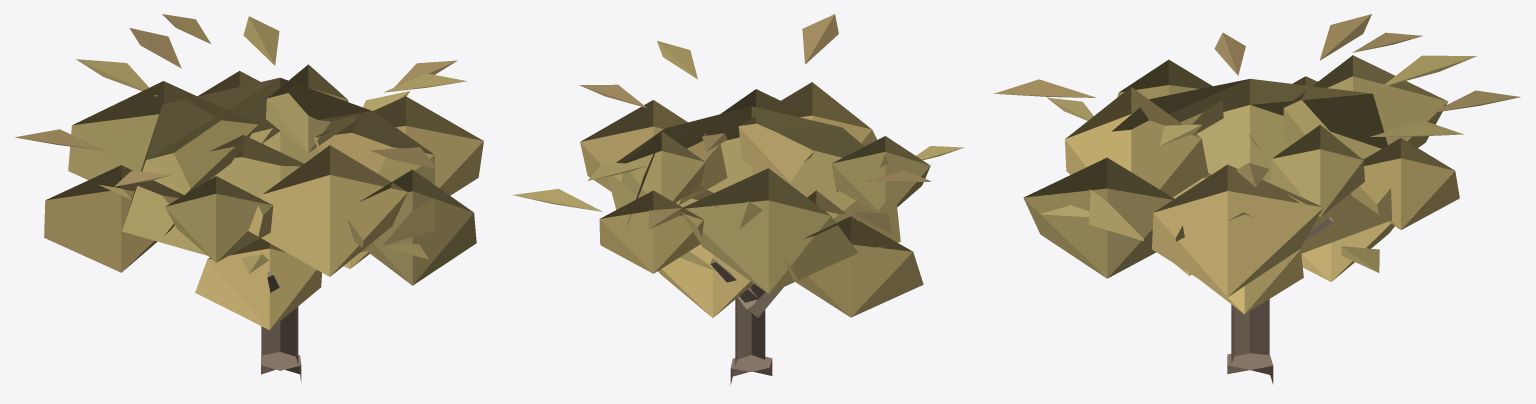
The model's file is nong.sang@subadult__autumn.glb.
3 views of the same model, side by side, from view 1: azimuth 30°, elevation 25°; view 2: azimuth 150°, elevation 25°; view 3: azimuth 270°, elevation 25° (orthographic). The views are drawn at different scales.
Parts seen in each view (by area): view 1: nong.sang@subadult__autumn; view 2: nong.sang@subadult__autumn; view 3: nong.sang@subadult__autumn.
Part boxes in pixels (x1,y1,x2,y2): nong.sang@subadult__autumn: (15, 14, 483, 382); nong.sang@subadult__autumn: (513, 14, 963, 384); nong.sang@subadult__autumn: (994, 14, 1520, 384).
Bounding box in the file's own units: 4.67 × 3.48 × 5.1.
